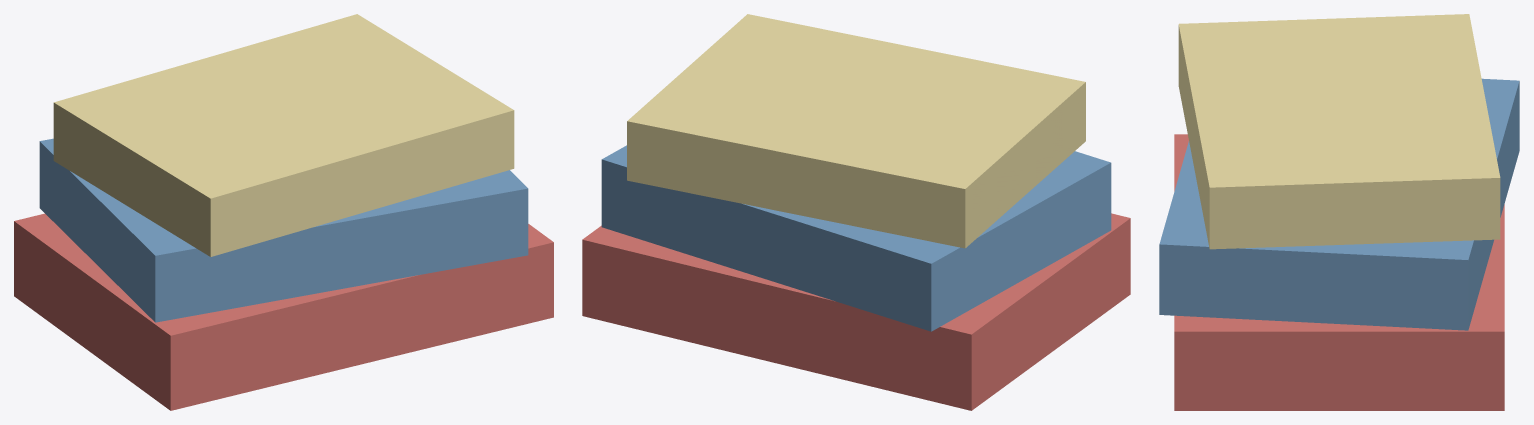
Rendered from book_stack.glb.
The picture shows the model from 3 angles, left to right: view 1: azimuth 30°, elevation 25°; view 2: azimuth 150°, elevation 25°; view 3: azimuth 270°, elevation 25°; orthographic projection. The views are drawn at different scales.
Size of the model in its own units: 0.24 by 0.12 by 0.1852.
